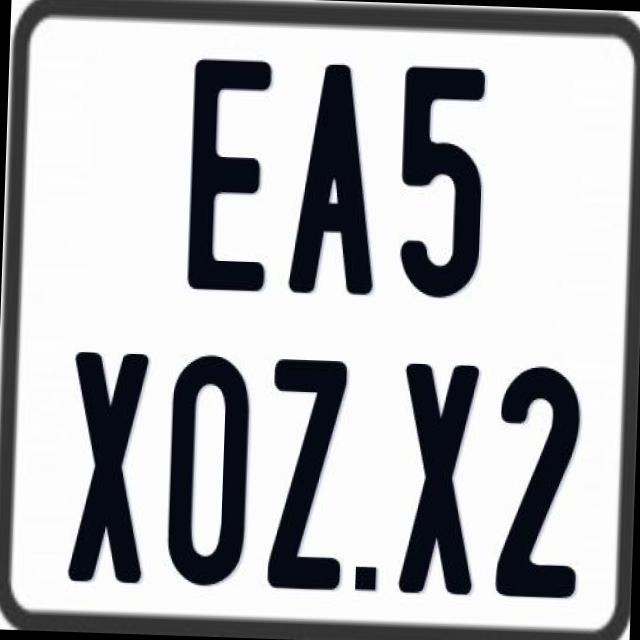0: (162, 352, 248, 592)
2: (492, 360, 584, 598)
5: (396, 65, 484, 298)
A: (284, 60, 377, 292)
E: (182, 54, 269, 297)
X: (65, 350, 147, 586), (398, 363, 478, 597)
Z: (264, 357, 349, 598)
